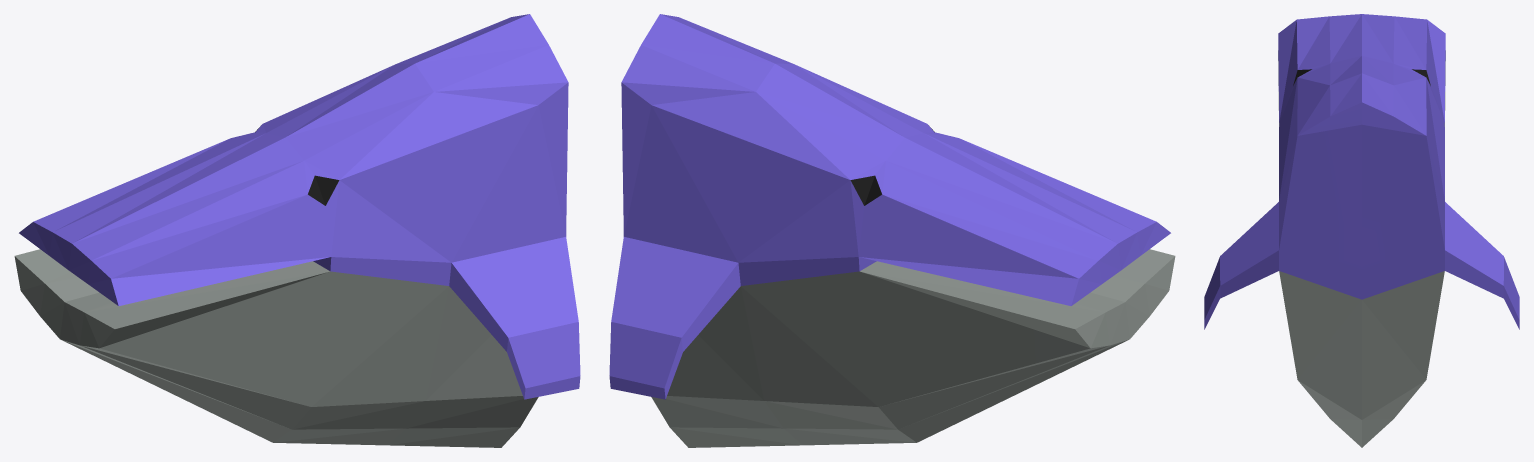
The model's file is Head.fbx.
3 renders of one model, left to right at view 1: azimuth 30°, elevation 25°; view 2: azimuth 150°, elevation 25°; view 3: azimuth 270°, elevation 25°, orthographic. The views are drawn at different scales.
Visible parts, largest first — view 1: Plane.001; view 2: Plane.001; view 3: Plane.001.
Boxes of the visible parts, x1,y1,x2,y2 form: Plane.001: (14, 14, 580, 447); Plane.001: (609, 14, 1175, 447); Plane.001: (1204, 14, 1519, 447).
Size of the model in its own units: 152 by 132 by 106.
